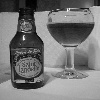beer: (9, 5, 50, 90)
